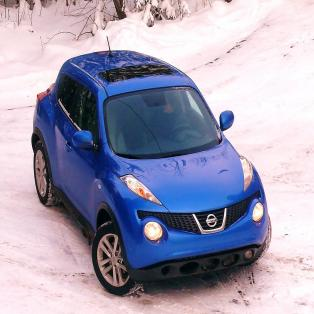Auto: (30, 34, 272, 297)
